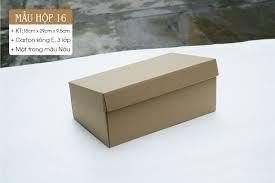box: (69, 52, 219, 149)
